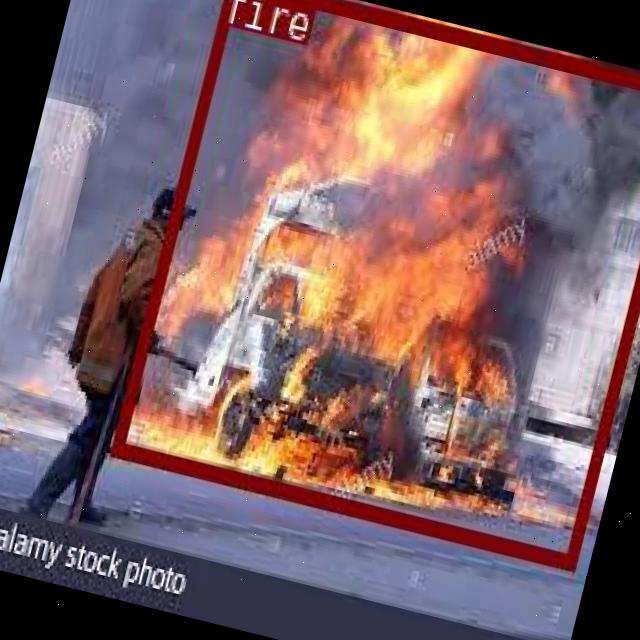fire: (109, 0, 640, 566)
